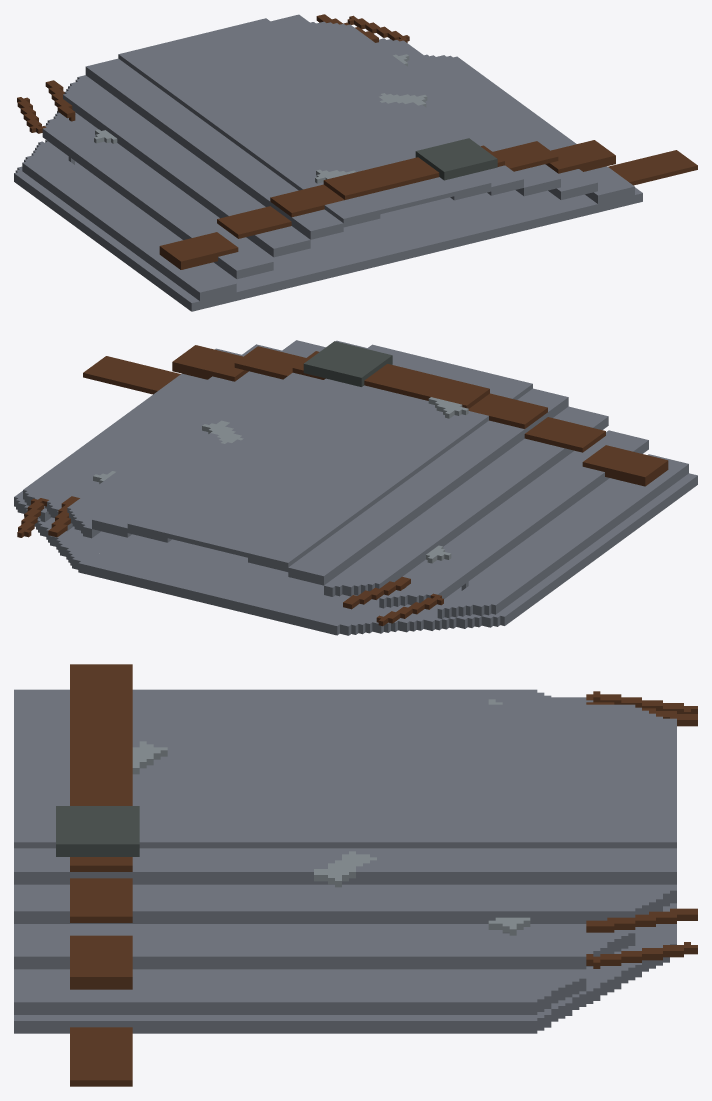
Rendered from ch_chestguard_metal_sheets_light.glb.
3 renders of one model, top to bottom at view 1: azimuth 30°, elevation 25°; view 2: azimuth 150°, elevation 25°; view 3: azimuth 270°, elevation 25°, orthographic. The views are drawn at different scales.
Parts seen in each view (by area): view 1: ch_chestguard_metal_sheets_light:compound; view 2: ch_chestguard_metal_sheets_light:compound; view 3: ch_chestguard_metal_sheets_light:compound.
Part boxes in pixels (left/top/right/bottom): ch_chestguard_metal_sheets_light:compound: left=14, top=14, right=697, bottom=311; ch_chestguard_metal_sheets_light:compound: left=14, top=340, right=697, bottom=635; ch_chestguard_metal_sheets_light:compound: left=14, top=664, right=697, bottom=1086.
Bounding box in the file's own units: 0.512 × 0.06 × 0.392.
